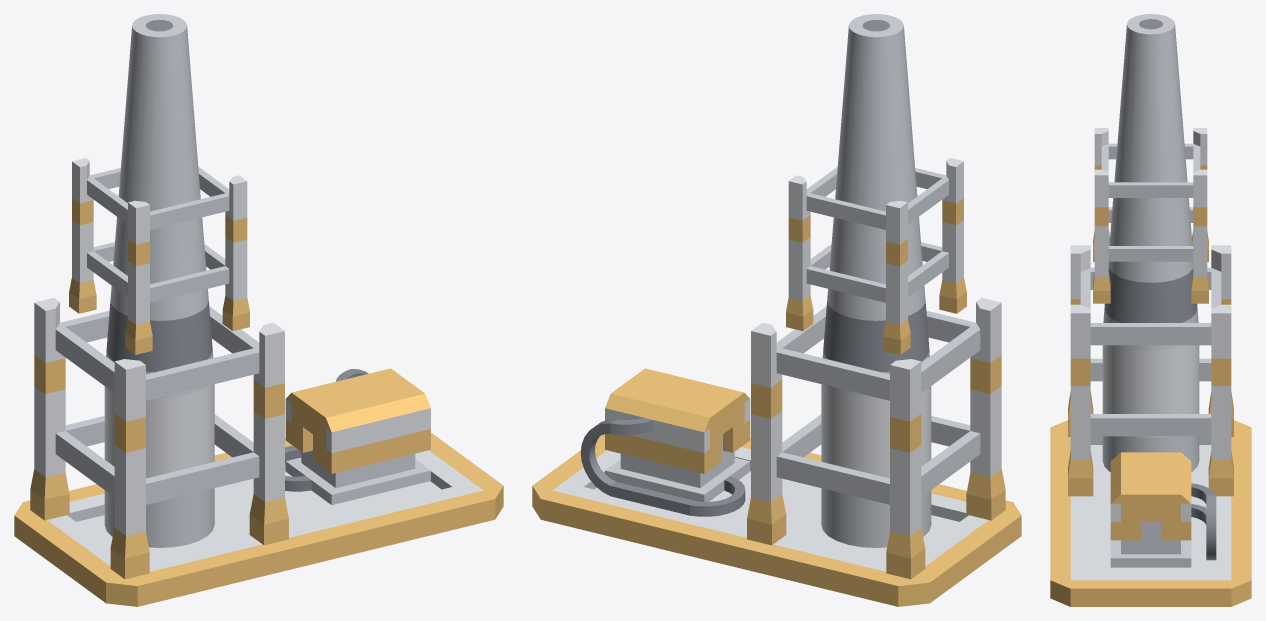
File: harvester-rig.glb
3 renders of one model, left to right at view 1: azimuth 30°, elevation 25°; view 2: azimuth 150°, elevation 25°; view 3: azimuth 270°, elevation 25°, orthographic. The views are drawn at different scales.
Visible parts, largest first — view 1: supports_high (×2), chimney_detailed, platform_long, Mesh machine_generator, cable; view 2: supports_high (×2), chimney_detailed, platform_long, Mesh machine_generator, cable; view 3: chimney_detailed, supports_high (×2), platform_long, Mesh machine_generator, cable.
Boxes of the visible parts, bbox=[...] form: supports_high (×2): bbox=[30, 158, 288, 579]; chimney_detailed: bbox=[104, 14, 214, 547]; platform_long: bbox=[14, 433, 503, 606]; Mesh machine_generator: bbox=[285, 368, 430, 504]; cable: bbox=[285, 369, 368, 491]; supports_high (×2): bbox=[747, 158, 1005, 579]; chimney_detailed: bbox=[821, 14, 931, 547]; platform_long: bbox=[532, 434, 1021, 606]; Mesh machine_generator: bbox=[605, 368, 750, 501]; cable: bbox=[580, 417, 745, 516]; chimney_detailed: bbox=[1102, 14, 1199, 471]; supports_high (×2): bbox=[1068, 128, 1233, 496]; platform_long: bbox=[1050, 420, 1251, 606]; Mesh machine_generator: bbox=[1110, 452, 1191, 567]; cable: bbox=[1191, 483, 1216, 560].
Bounding box in the file's own units: 2 × 2.5 × 1.
